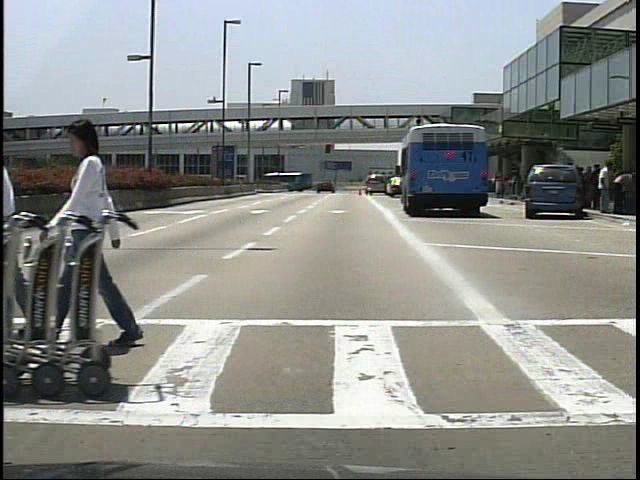person: (59, 107, 147, 353), (4, 121, 80, 340), (598, 160, 619, 213), (589, 162, 605, 213)
